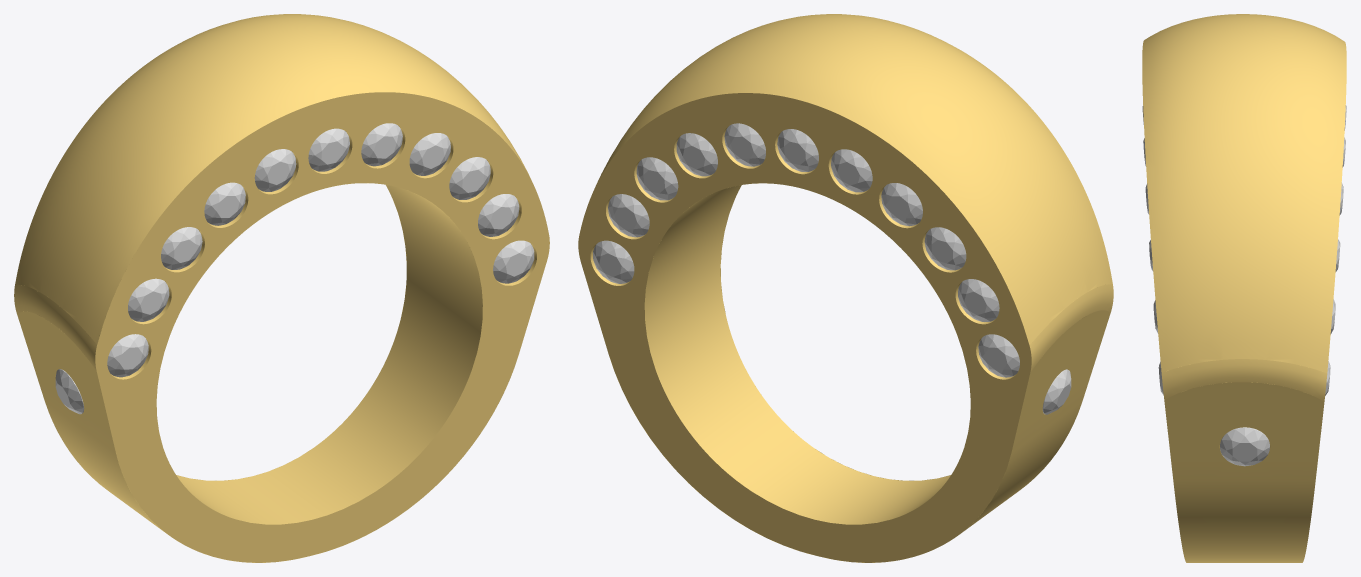
The model's file is JuliaAv2YG_blender.glb.
3 views of the same model, side by side, from view 1: azimuth 30°, elevation 25°; view 2: azimuth 150°, elevation 25°; view 3: azimuth 270°, elevation 25° (orthographic).
Parts seen in each view (by area): view 1: v2 Julia YG for 3d model, v2 Julia dia for 3d model.018, v2 Julia dia for 3d model.011, v2 Julia dia for 3d model.016, v2 Julia dia for 3d model.021, v2 Julia dia for 3d model.015, v2 Julia dia for 3d model.013, v2 Julia dia for 3d model.017, v2 Julia dia for 3d model.019, v2 Julia dia for 3d model.014, v2 Julia dia for 3d model.012, v2 Julia dia for 3d model.020 (+1 smaller); view 2: v2 Julia YG for 3d model, v2 Julia dia for 3d model.002, v2 Julia dia for 3d model.004, v2 Julia dia for 3d model.008, v2 Julia dia for 3d model, v2 Julia dia for 3d model.010, v2 Julia dia for 3d model.003, v2 Julia dia for 3d model.001, v2 Julia dia for 3d model.006, v2 Julia dia for 3d model.007, v2 Julia dia for 3d model.005, v2 Julia dia for 3d model.009 (+1 smaller); view 3: v2 Julia YG for 3d model, v2 Julia dia for 3d model.022.
Part boxes in pixels (bbox=[...]): v2 Julia YG for 3d model: bbox=[14, 14, 549, 562]; v2 Julia dia for 3d model.018: bbox=[204, 182, 245, 225]; v2 Julia dia for 3d model.011: bbox=[493, 240, 534, 283]; v2 Julia dia for 3d model.016: bbox=[308, 128, 349, 171]; v2 Julia dia for 3d model.021: bbox=[107, 334, 148, 377]; v2 Julia dia for 3d model.015: bbox=[361, 123, 402, 166]; v2 Julia dia for 3d model.013: bbox=[449, 157, 490, 199]; v2 Julia dia for 3d model.017: bbox=[254, 149, 296, 191]; v2 Julia dia for 3d model.019: bbox=[161, 227, 202, 269]; v2 Julia dia for 3d model.014: bbox=[409, 133, 450, 175]; v2 Julia dia for 3d model.012: bbox=[478, 194, 519, 236]; v2 Julia dia for 3d model.020: bbox=[128, 278, 169, 321]; v2 Julia YG for 3d model: bbox=[578, 14, 1113, 562]; v2 Julia dia for 3d model.002: bbox=[636, 157, 678, 200]; v2 Julia dia for 3d model.004: bbox=[724, 123, 765, 166]; v2 Julia dia for 3d model.008: bbox=[924, 227, 966, 270]; v2 Julia dia for 3d model: bbox=[593, 240, 634, 283]; v2 Julia dia for 3d model.010: bbox=[978, 334, 1019, 377]; v2 Julia dia for 3d model.003: bbox=[676, 133, 717, 176]; v2 Julia dia for 3d model.001: bbox=[608, 194, 649, 237]; v2 Julia dia for 3d model.006: bbox=[831, 149, 872, 192]; v2 Julia dia for 3d model.007: bbox=[881, 183, 922, 226]; v2 Julia dia for 3d model.005: bbox=[777, 129, 818, 171]; v2 Julia dia for 3d model.009: bbox=[958, 279, 999, 321]; v2 Julia YG for 3d model: bbox=[1142, 14, 1346, 562]; v2 Julia dia for 3d model.022: bbox=[1220, 427, 1269, 466].
Size of the model in its own units: 21.37 by 22.07 by 8.15.
